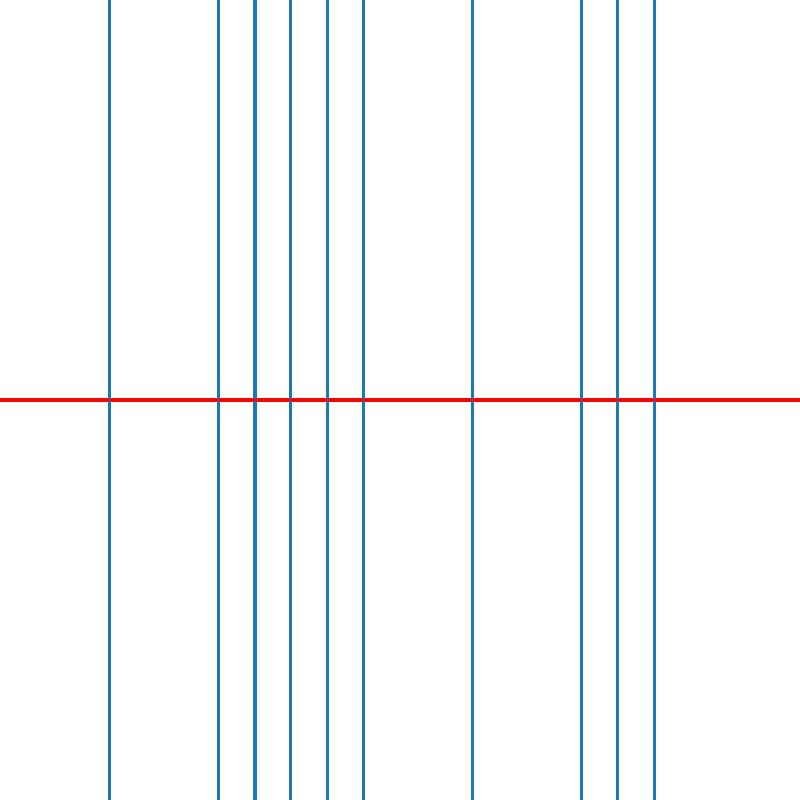root: (650, 396, 658, 404), (250, 396, 258, 404), (614, 396, 621, 404), (469, 396, 476, 404), (287, 396, 294, 404), (105, 396, 112, 404), (323, 396, 330, 404), (214, 396, 221, 404), (360, 396, 367, 404), (578, 396, 585, 404)
